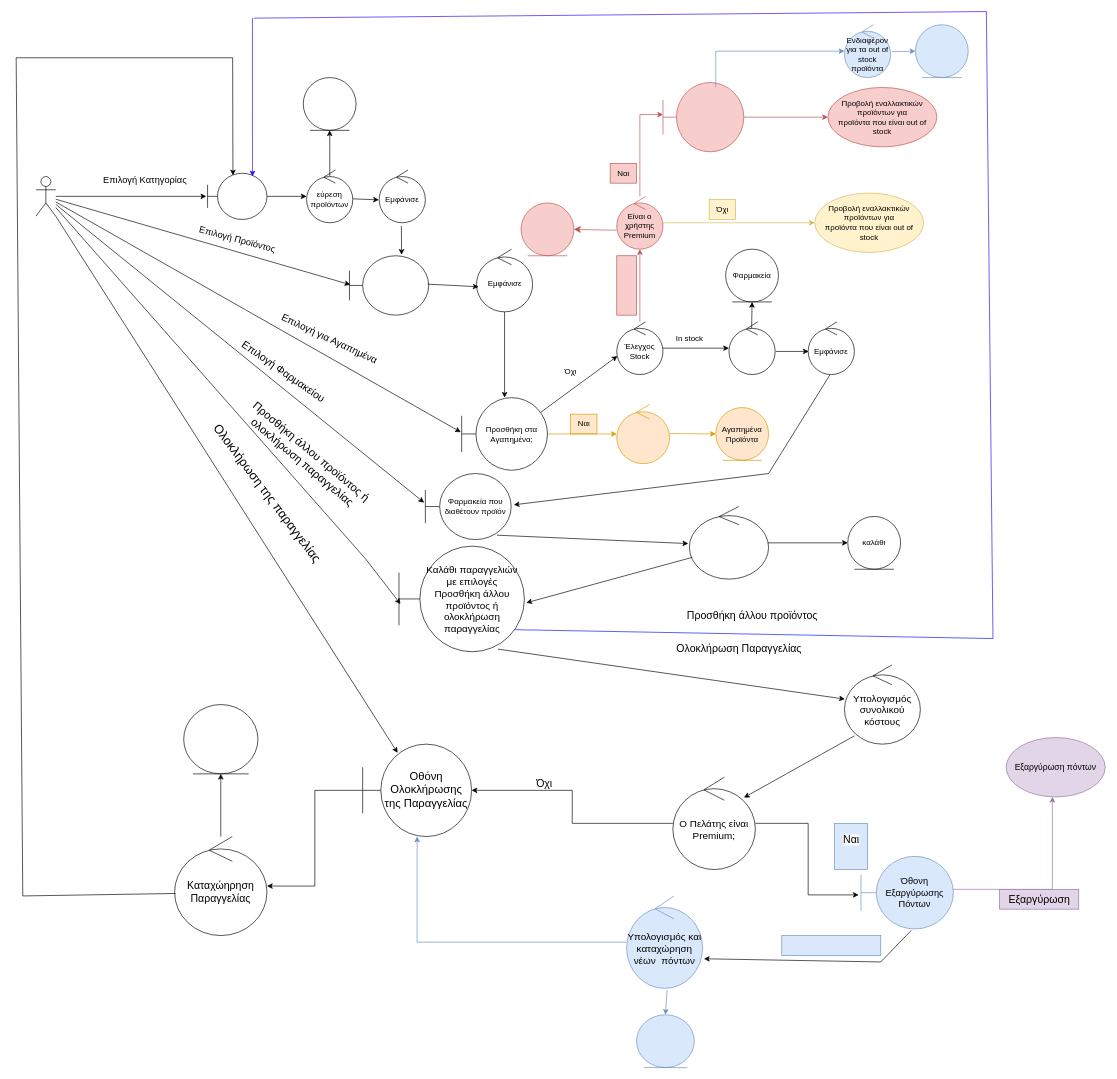
Image size: 1117x1079. Some labels were removed from this diagram. The centre of each missing label's shape, as x and y in pixels:
"Out of stock" goes at point (626, 285).
"premium" goes at point (547, 229).
"ενδιαφερόμενα προϊόντα premium" goes at point (941, 51).
"εύρεση φαρμακείων" goes at point (751, 348).
"Κύρια Οθόνη Χρήστη" goes at point (237, 196).
"Οθόνη για επιλογή μεταξύ ενφιαφέροντος και εναλλακτικών" goes at point (703, 117).
"Παραγγελίες" goes at point (220, 739).
"πελάτης" goes at point (45, 196).
"ποντοι" goes at point (665, 1041).
"προσθήκη στην λίστα με τα αγαπημένα προϊόντα" goes at point (643, 434).
"Προσθήκη στο καλάθι" goes at point (729, 542).
"προϊοντα" goes at point (329, 103).
"Προϊόντα συγκεκριμένης κατηγορίας" goes at point (389, 285).
"Όχι Εξαργύρωση" goes at point (831, 945).
